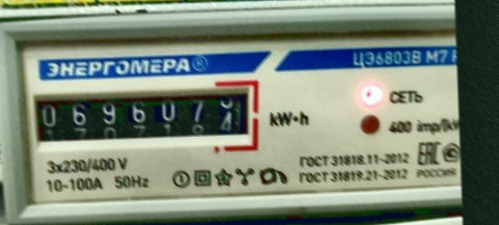0: (39, 102, 57, 126), (159, 96, 175, 121)
4: (217, 108, 233, 133)
6: (69, 101, 87, 125), (129, 98, 147, 122)
7: (189, 96, 205, 123)
9: (99, 100, 116, 124)
screen: (19, 72, 264, 155)
